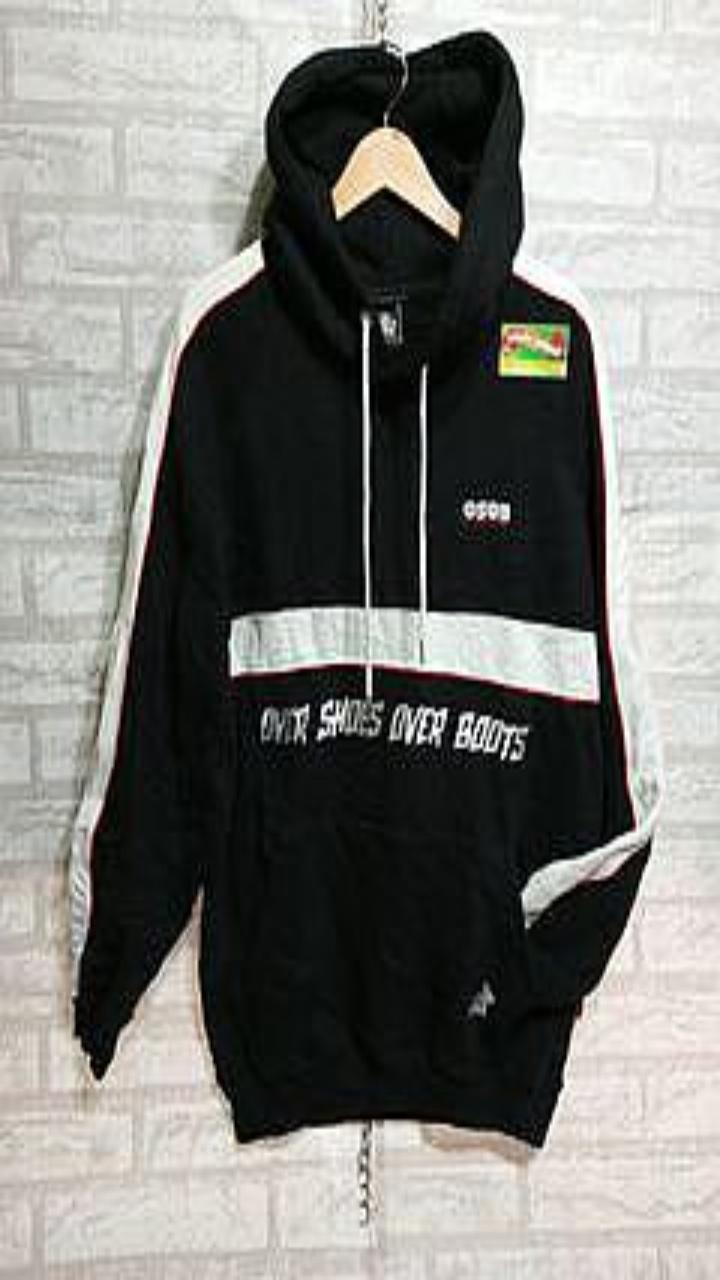Sports_Jacket: (69, 30, 663, 1145)
